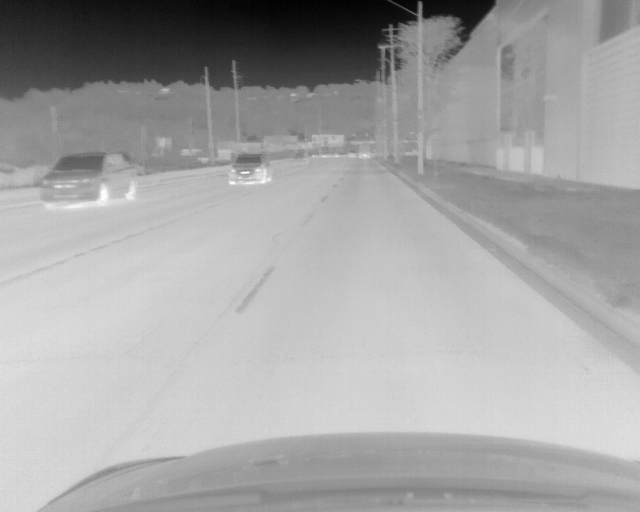car: (39, 151, 139, 205), (229, 154, 272, 182)
